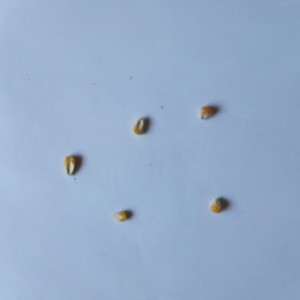maiz: (62, 152, 81, 177), (131, 115, 148, 137), (197, 103, 214, 122), (209, 195, 224, 215), (113, 208, 129, 222)
